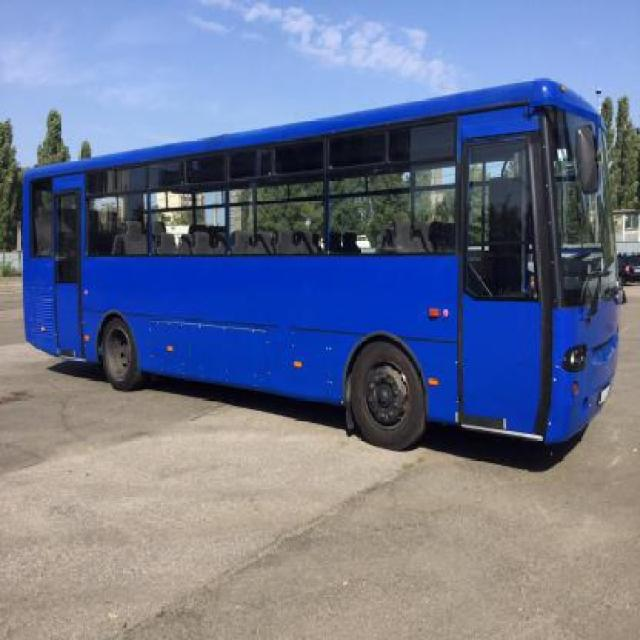bus: (22, 79, 612, 448)
